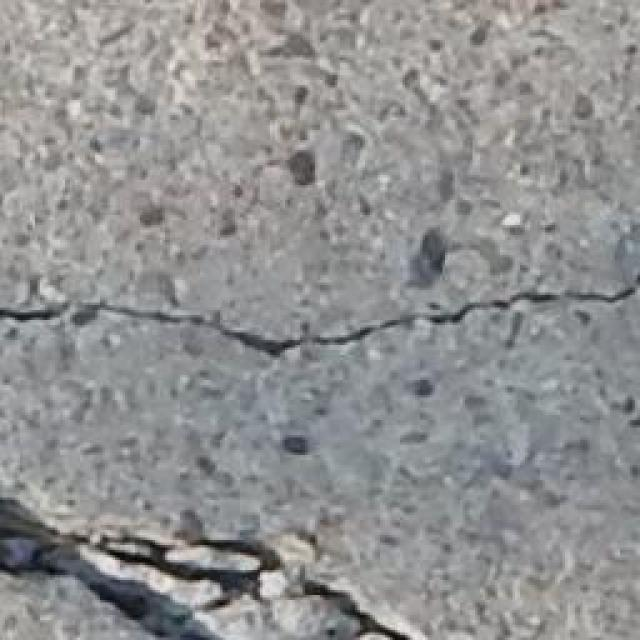concrete-crack: (0, 485, 420, 640), (0, 275, 639, 369)
